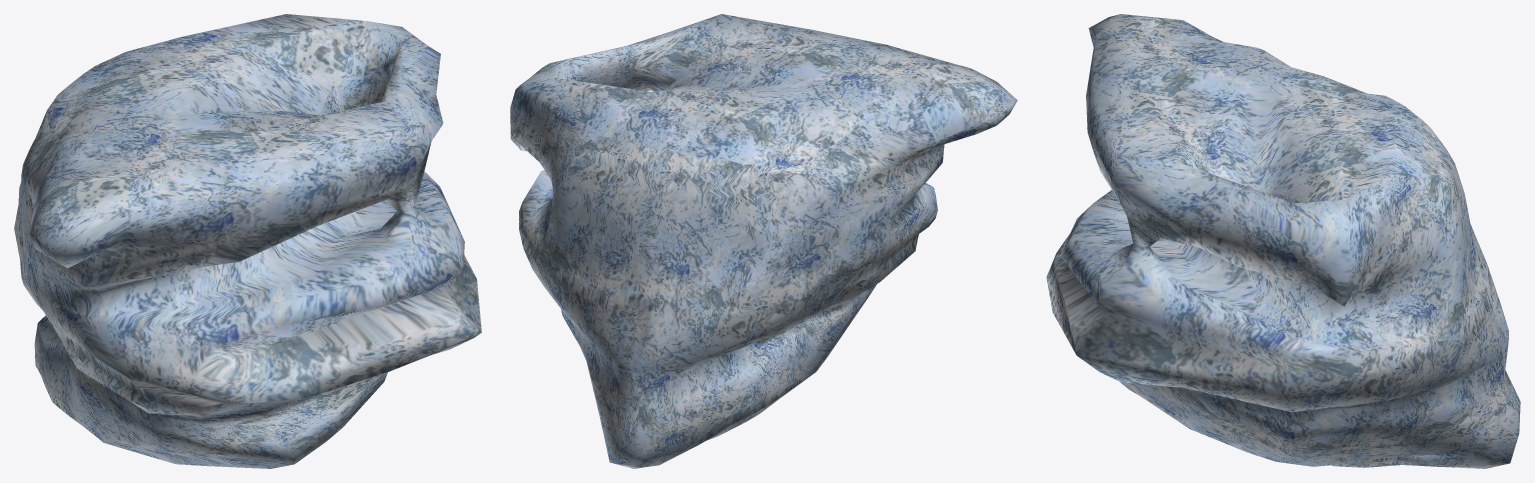
The model's file is planetoid_ice_s01_l2.fbx.
The picture shows the model from 3 angles, left to right: view 1: azimuth 30°, elevation 25°; view 2: azimuth 150°, elevation 25°; view 3: azimuth 270°, elevation 25°; orthographic projection. The views are drawn at different scales.
Visible parts, largest first — view 1: mesh_node; view 2: mesh_node; view 3: mesh_node.
Part boxes in pixels (<box>): mesh_node: <box>14,14,481,468</box>; mesh_node: <box>510,14,1017,468</box>; mesh_node: <box>1046,14,1520,468</box>.
Bounding box in the file's own units: 580 × 446 × 528.
